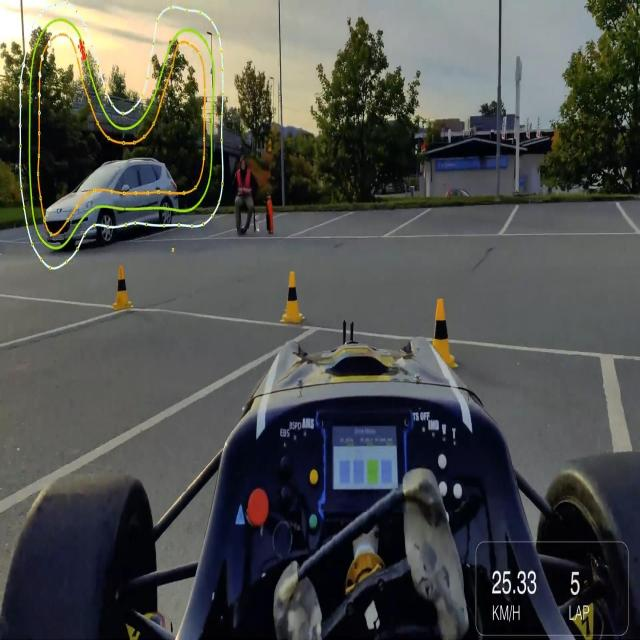yellow_cone: (431, 294, 457, 367), (277, 265, 305, 327), (111, 266, 132, 312)
